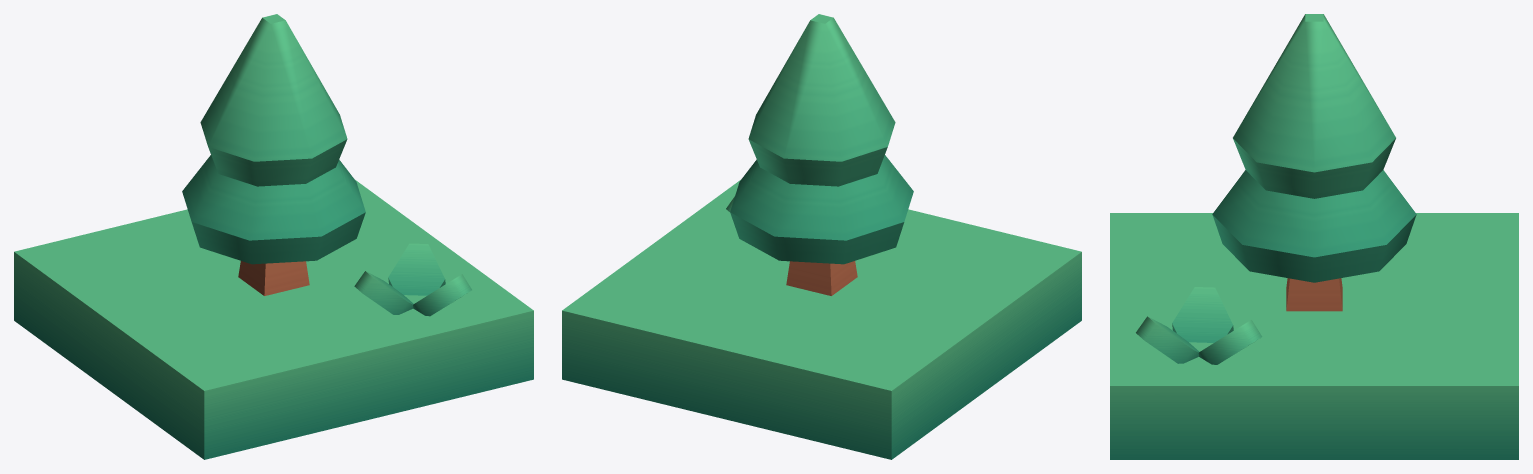
File: tile-tree.fbx
3 views of the same model, side by side, from view 1: azimuth 30°, elevation 25°; view 2: azimuth 150°, elevation 25°; view 3: azimuth 270°, elevation 25° (orthographic). The views are drawn at different scales.
Parts seen in each view (by area): view 1: tile-tree; view 2: tile-tree; view 3: tile-tree.
Boxes of the visible parts, left/top/right/bottom form: tile-tree: left=14, top=14, right=533, bottom=459; tile-tree: left=562, top=14, right=1081, bottom=459; tile-tree: left=1110, top=14, right=1518, bottom=459.
Size of the model in its own units: 100 by 96 by 100.
